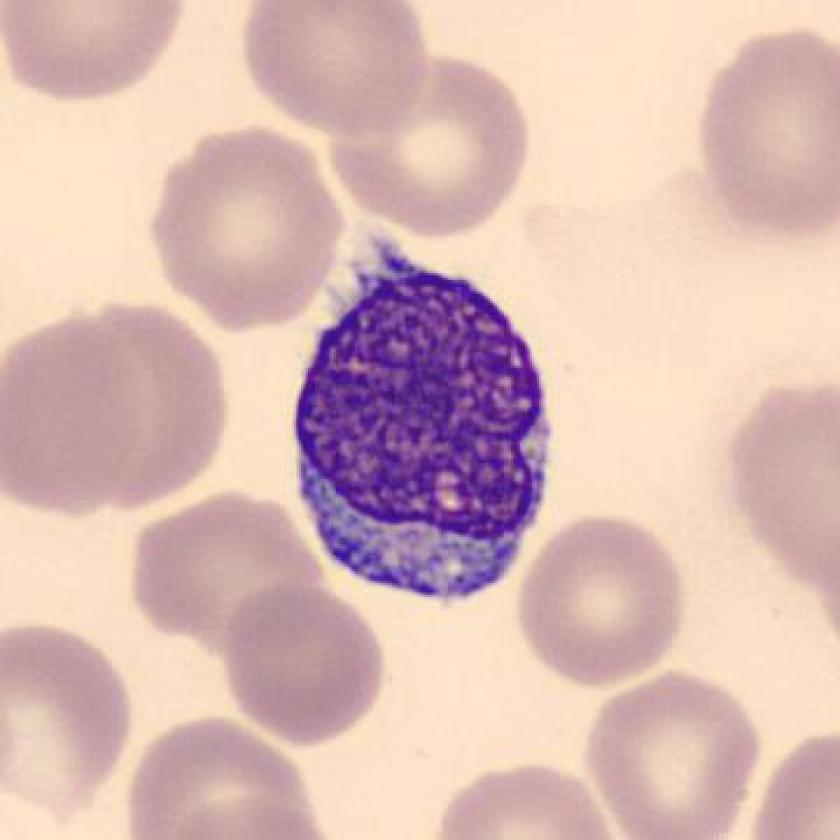monocyte: (279, 230, 570, 631)
